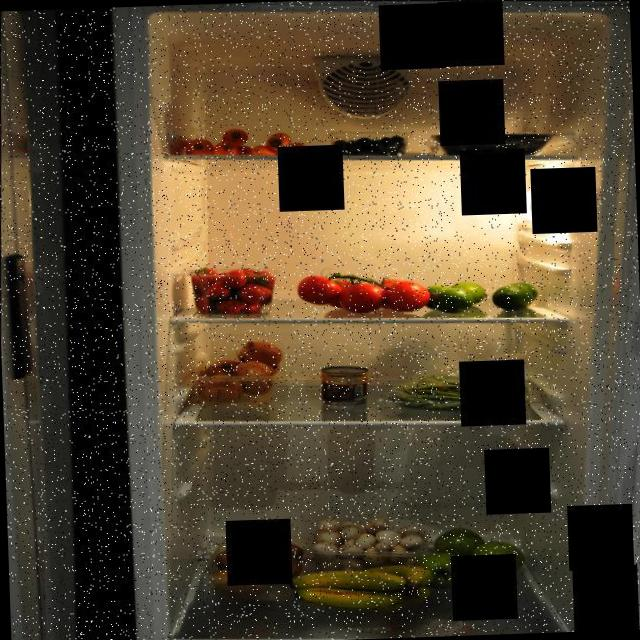Cebolla: (190, 336, 286, 411)
Champiñones: (307, 511, 433, 576)
Manzana: (412, 520, 526, 594)
Patata: (212, 525, 308, 595)
Plátano: (286, 560, 434, 617)
Tomate: (291, 263, 434, 321)
Zanahoria: (176, 116, 318, 167)
